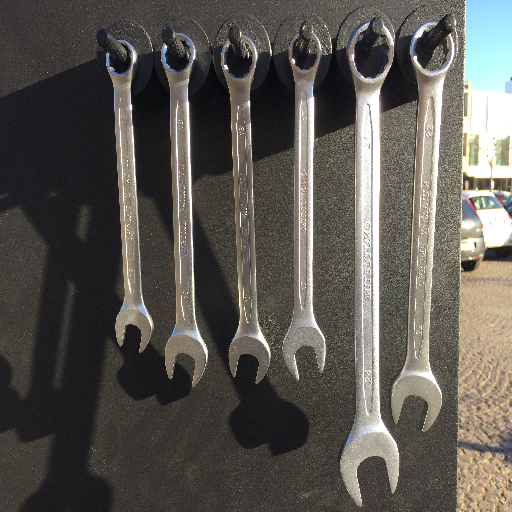bottom: (337, 426, 401, 507), (387, 366, 445, 436), (280, 319, 328, 383), (162, 330, 210, 390), (228, 328, 274, 387), (112, 303, 156, 357)
top: (343, 19, 397, 90), (406, 20, 459, 83), (217, 31, 261, 87), (158, 29, 199, 80), (286, 29, 325, 77), (102, 38, 141, 84)
